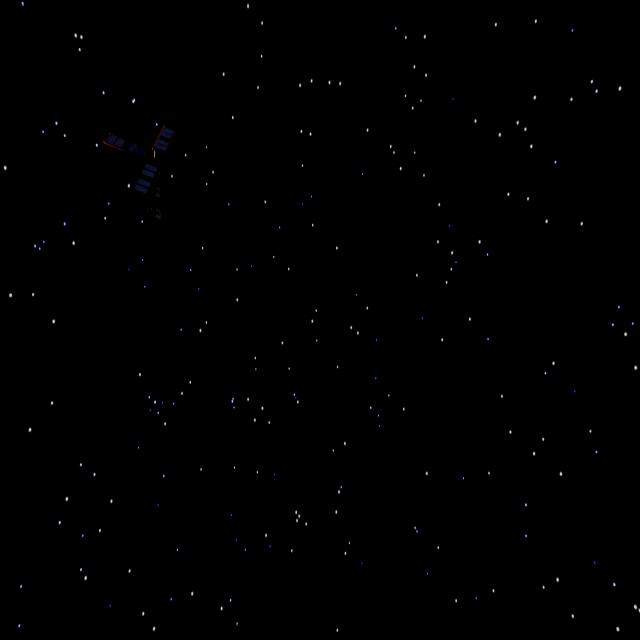medium_debris: (102, 107, 221, 235)
